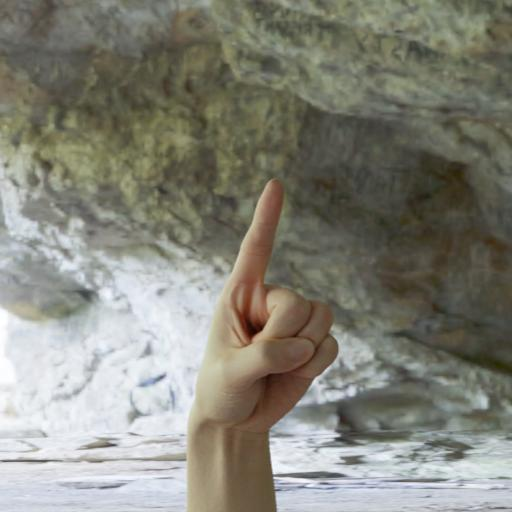Z: (186, 166, 346, 476)
